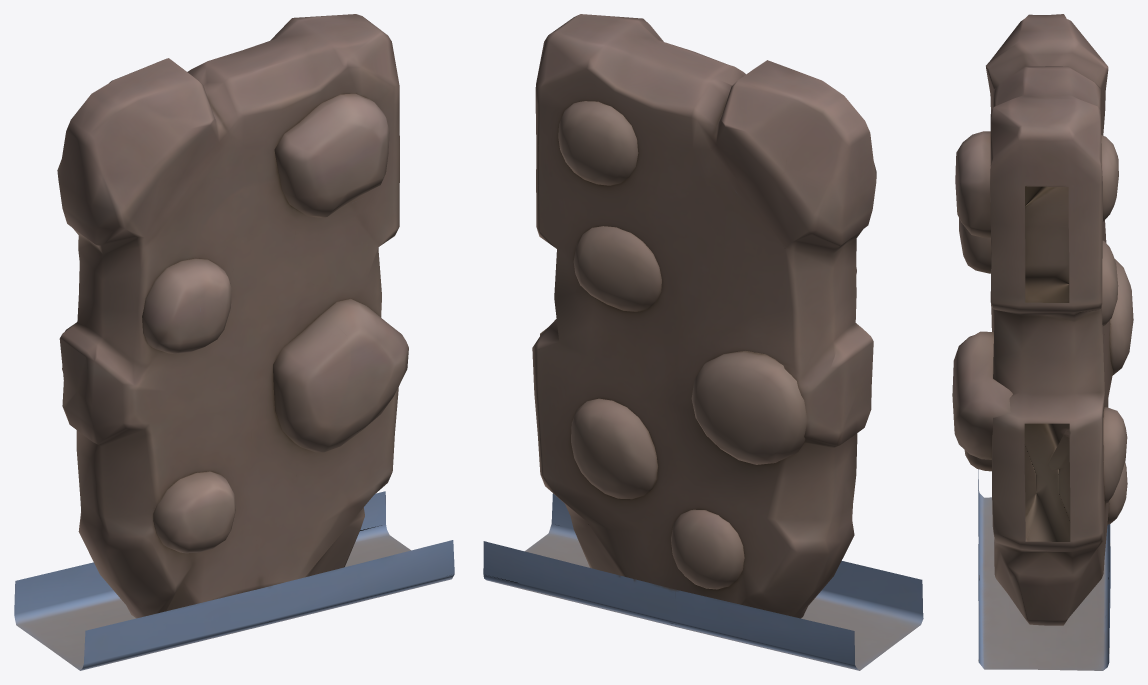
Rendered from bulwark-r3.glb.
3 views of the same model, side by side, from view 1: azimuth 30°, elevation 25°; view 2: azimuth 150°, elevation 25°; view 3: azimuth 270°, elevation 25° (orthographic). The views are drawn at different scales.
Visible parts, largest first — view 1: geometry_0; view 2: geometry_0; view 3: geometry_0.
Part boxes in pixels (<box>): geometry_0: <box>14,14,454,670</box>; geometry_0: <box>483,14,923,670</box>; geometry_0: <box>952,14,1133,670</box>.
Bounding box in the file's own units: 0.6866 × 0.9681 × 0.3029.
Materials: 1 (1 with a texture image).
